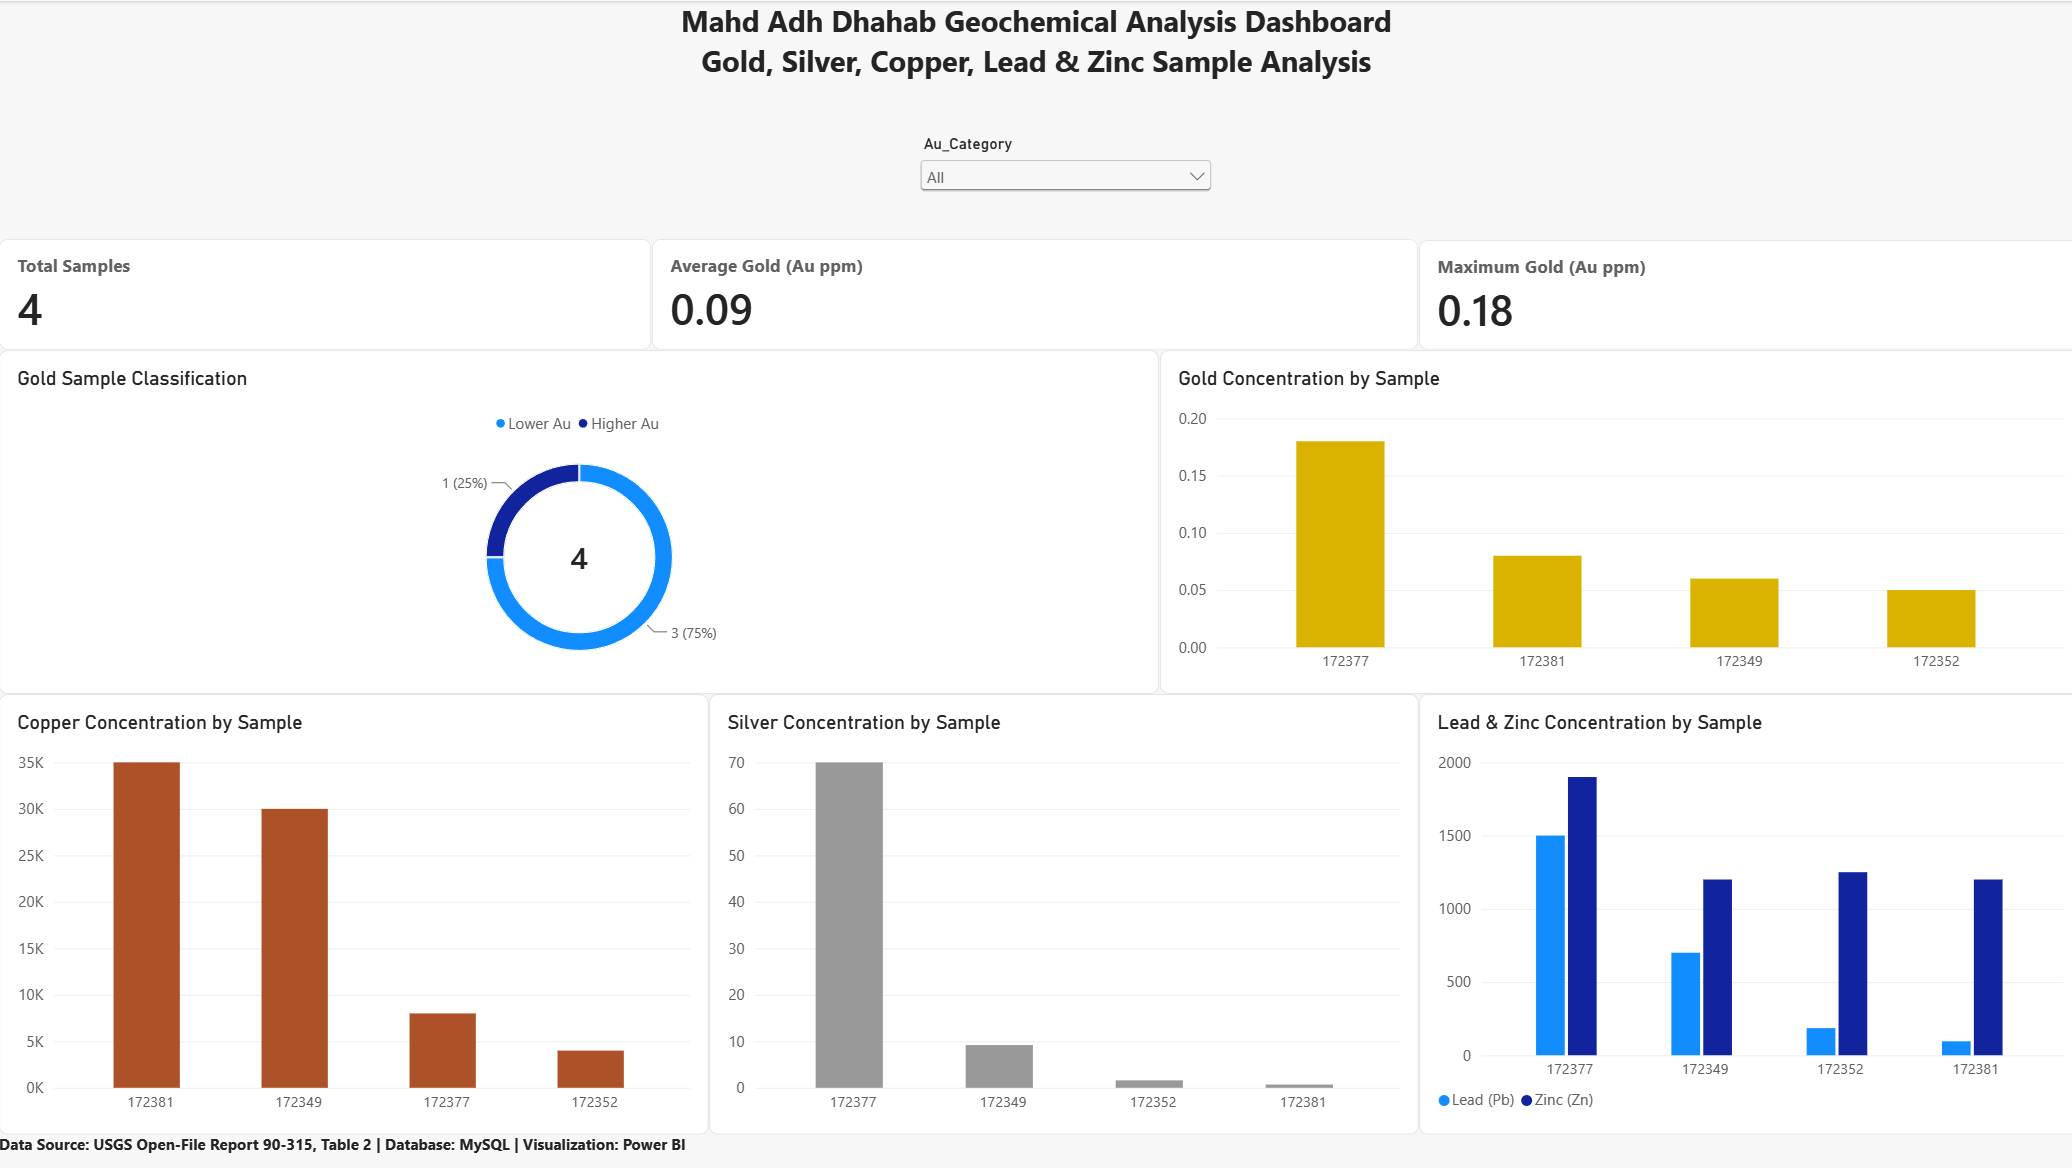

The page's visual inventory and layout, read from the dashboard file:
{"tool":"powerbi","page":{"name":"Page 1","canvas":[1920,1080],"ordinal":0},"visuals":[{"type":"cardVisual","fields":{"Data":["CountNonNull(mahdgeologydb geochemical_analysis.Sample_ID)"]},"box":[0,218.9,602,102.6],"z":0},{"type":"cardVisual","fields":{"Data":["Avg(mahdgeologydb geochemical_analysis.Au_ppm)"]},"box":[602,218.9,706.9,102.6],"z":1000},{"type":"cardVisual","fields":{"Data":["Max(mahdgeologydb geochemical_analysis.Au_ppm)"]},"box":[1308.8,220,611.2,101.2],"z":2000},{"type":"donutChart","title":"Gold Sample Classification","fields":{"Category":["mahdgeologydb geochemical_analysis.Au_Category"],"Y":["CountNonNull(mahdgeologydb geochemical_analysis.Sample_ID)"]},"box":[0,321.5,1069.5,317],"z":3000},{"type":"clusteredColumnChart","title":"Gold Concentration by Sample","fields":{"Category":["mahdgeologydb geochemical_analysis.Sample_ID"],"Y":["Sum(mahdgeologydb geochemical_analysis.Au_ppm)"]},"box":[1069.5,321.5,850.5,317],"z":4000},{"type":"clusteredColumnChart","title":"Copper Concentration by Sample","fields":{"Category":["mahdgeologydb geochemical_analysis.Sample_ID"],"Y":["Sum(mahdgeologydb geochemical_analysis.Cu_ppm)"]},"box":[0,638.5,654.4,405.9],"z":5000},{"type":"clusteredColumnChart","title":"Lead & Zinc Concentration by Sample","fields":{"Category":["mahdgeologydb geochemical_analysis.Sample_ID"],"Y":["Sum(mahdgeologydb geochemical_analysis.Pb_ppm)","Sum(mahdgeologydb geochemical_analysis.Zn_ppm)"]},"box":[1308.9,638.5,611.1,405.9],"z":6000},{"type":"textbox","box":[0,0,1920,109.5],"z":7000},{"type":"clusteredColumnChart","title":"Silver Concentration by Sample","fields":{"Category":["mahdgeologydb geochemical_analysis.Sample_ID"],"Y":["Sum(mahdgeologydb geochemical_analysis.Ag_ppm)"]},"box":[654.4,638.5,654.4,405.9],"z":8000},{"type":"slicer","fields":{"Values":["mahdgeologydb geochemical_analysis.Au_Category"]},"box":[843.7,123.1,278.2,95.8],"z":9000},{"type":"textbox","box":[0,1044.4,1920,36.5],"z":10000}]}

Visuals, with their boxes in screenshot pixels (x1, y1, x2, y2), scaled from the page's 1920x1080 canvas onto the 2072x1168 screenshot:
cardVisual - CountNonNull(mahdgeologydb geochemical_analysis.Sample_ID): l=0, t=237, r=650, b=348
cardVisual - Avg(mahdgeologydb geochemical_analysis.Au_ppm): l=650, t=237, r=1413, b=348
cardVisual - Max(mahdgeologydb geochemical_analysis.Au_ppm): l=1412, t=238, r=2071, b=347
"Gold Sample Classification" donutChart: l=0, t=348, r=1154, b=691
"Gold Concentration by Sample" clusteredColumnChart: l=1154, t=348, r=2071, b=691
"Copper Concentration by Sample" clusteredColumnChart: l=0, t=691, r=706, b=1129
"Lead & Zinc Concentration by Sample" clusteredColumnChart: l=1413, t=691, r=2071, b=1129
textbox: l=0, t=0, r=2071, b=118
"Silver Concentration by Sample" clusteredColumnChart: l=706, t=691, r=1412, b=1129
slicer - mahdgeologydb geochemical_analysis.Au_Category: l=910, t=133, r=1211, b=237
textbox: l=0, t=1129, r=2071, b=1167
